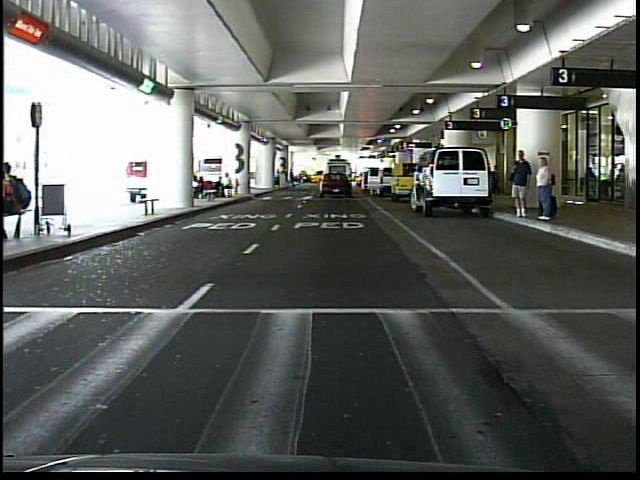person: (506, 147, 532, 221), (533, 151, 556, 224), (338, 171, 347, 193)
